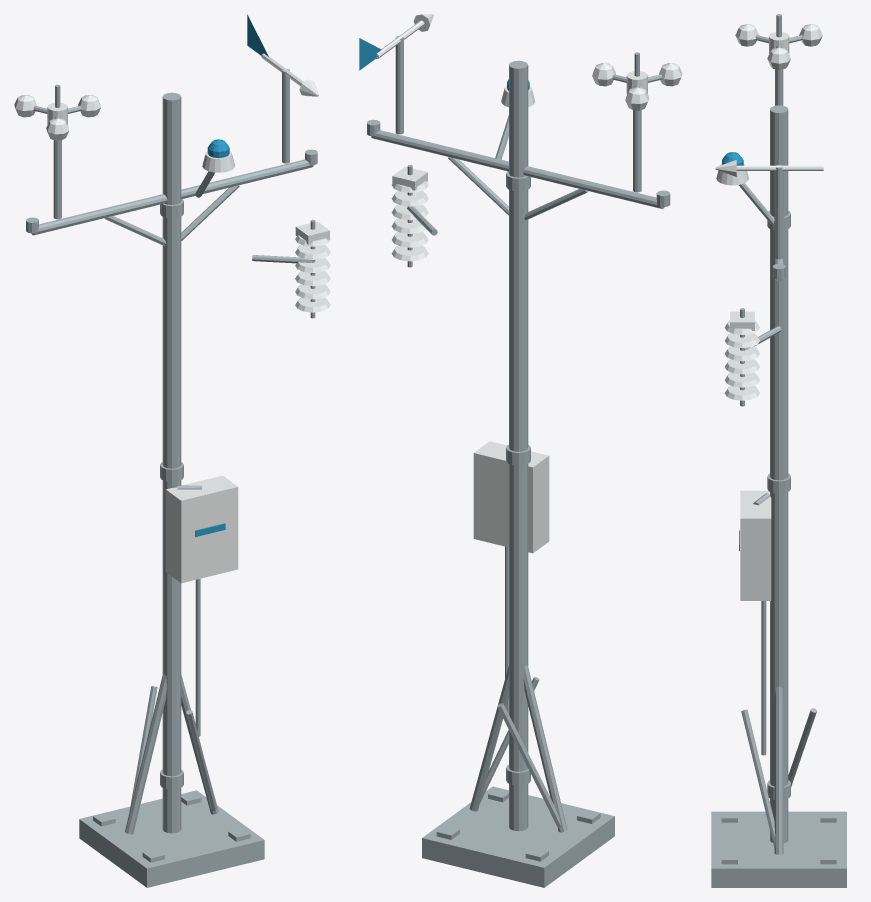
File: weather-station.glb
3 views of the same model, side by side, from view 1: azimuth 30°, elevation 25°; view 2: azimuth 150°, elevation 25°; view 3: azimuth 270°, elevation 25° (orthographic). The views are drawn at different scales.
Visible parts, largest first — view 1: MET_MAST, MET_SENSORS, MET_ACCENT; view 2: MET_MAST, MET_SENSORS; view 3: MET_MAST, MET_SENSORS.
Boxes of the visible parts, bbox=[...] form: MET_MAST: bbox=[26, 69, 317, 887]; MET_SENSORS: bbox=[14, 53, 330, 583]; MET_ACCENT: bbox=[195, 14, 268, 536]; MET_MAST: bbox=[367, 36, 670, 887]; MET_SENSORS: bbox=[376, 14, 682, 553]; MET_MAST: bbox=[711, 14, 846, 887]; MET_SENSORS: bbox=[715, 24, 823, 600].
Bounding box in the file's own units: 1.72 × 4.5 × 0.75.
